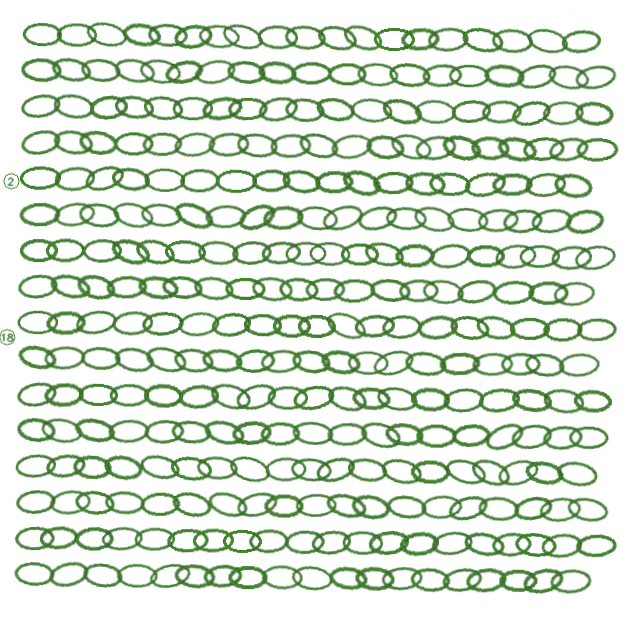chain: (483, 415, 530, 453), (233, 199, 279, 237), (169, 199, 215, 236), (323, 307, 369, 344), (470, 452, 516, 488), (318, 200, 365, 235), (497, 452, 544, 487), (336, 20, 382, 55), (234, 380, 280, 415), (315, 452, 361, 487), (80, 164, 125, 199), (376, 93, 422, 127), (371, 345, 417, 379), (359, 417, 405, 451), (229, 453, 275, 487), (445, 453, 491, 487), (448, 489, 494, 523), (216, 21, 261, 55), (506, 93, 551, 127), (337, 165, 382, 199), (107, 237, 152, 271), (208, 489, 253, 523), (386, 129, 432, 162), (410, 201, 456, 234), (144, 345, 190, 378), (237, 489, 283, 522), (511, 57, 556, 90), (294, 129, 339, 162), (109, 201, 154, 234), (354, 201, 399, 234), (209, 381, 254, 414), (326, 489, 371, 522), (524, 561, 569, 594), (460, 166, 506, 198), (437, 129, 481, 162), (50, 561, 94, 594), (521, 22, 566, 54), (544, 130, 589, 162), (132, 238, 177, 270), (47, 274, 92, 306), (203, 418, 248, 450), (381, 454, 426, 486), (172, 490, 217, 522), (151, 562, 196, 594), (159, 58, 203, 90), (16, 130, 60, 162), (74, 274, 118, 306), (326, 382, 370, 414), (80, 22, 125, 53), (456, 22, 501, 53), (189, 58, 234, 89), (570, 58, 615, 89), (572, 238, 617, 269), (454, 274, 499, 305), (74, 310, 119, 341), (292, 382, 337, 413), (311, 22, 355, 53), (46, 58, 90, 89), (109, 58, 153, 89), (253, 94, 297, 125), (361, 238, 405, 269), (474, 310, 518, 341), (16, 346, 60, 377), (74, 418, 118, 449), (511, 418, 555, 449), (140, 454, 184, 485), (514, 490, 558, 521), (170, 131, 215, 161), (411, 131, 456, 161), (41, 419, 86, 449), (311, 94, 354, 125), (562, 202, 605, 233), (543, 59, 587, 89), (16, 95, 60, 125), (197, 95, 241, 125), (327, 131, 371, 161), (51, 203, 95, 233), (427, 239, 471, 269), (16, 383, 60, 413), (376, 383, 420, 413), (557, 455, 601, 485), (568, 491, 612, 521), (465, 527, 509, 557), (444, 563, 488, 593), (433, 527, 478, 556), (168, 23, 211, 53), (493, 131, 536, 161), (278, 167, 321, 197), (550, 167, 593, 197), (113, 347, 156, 377), (104, 455, 147, 485), (525, 455, 568, 485), (352, 491, 395, 521), (135, 59, 179, 88), (528, 203, 572, 232), (493, 239, 537, 268), (177, 311, 221, 340), (448, 311, 492, 340), (478, 383, 522, 412), (543, 383, 587, 412), (46, 455, 90, 484), (49, 95, 92, 124), (49, 131, 92, 160), (522, 167, 565, 196), (210, 311, 253, 340), (416, 311, 459, 340), (511, 383, 554, 412), (348, 455, 391, 484), (51, 491, 94, 520), (370, 527, 413, 556), (468, 563, 511, 592), (233, 132, 277, 160), (294, 204, 338, 232), (475, 204, 519, 232), (421, 276, 465, 304), (552, 276, 596, 304), (260, 348, 304, 376), (404, 348, 448, 376), (171, 456, 215, 484), (541, 492, 585, 520), (543, 528, 587, 556), (117, 23, 159, 52), (75, 131, 117, 160), (320, 347, 362, 376), (556, 24, 599, 52), (110, 96, 153, 124), (139, 96, 182, 124), (51, 168, 94, 196), (76, 204, 119, 232), (260, 204, 303, 232), (549, 240, 592, 268), (16, 276, 59, 304), (136, 276, 179, 304), (173, 348, 216, 376), (201, 348, 244, 376), (178, 384, 221, 412), (443, 384, 486, 412), (543, 420, 586, 448), (16, 456, 59, 484), (388, 492, 431, 520), (313, 528, 356, 556), (294, 564, 337, 592), (384, 60, 428, 87), (347, 96, 391, 123), (519, 132, 563, 159), (138, 204, 182, 231), (250, 276, 294, 303), (491, 276, 535, 303), (85, 96, 127, 124), (362, 132, 404, 160), (108, 168, 150, 196), (500, 204, 542, 232), (192, 276, 234, 304), (291, 348, 333, 376), (524, 348, 566, 376), (401, 528, 443, 556), (85, 564, 127, 592), (331, 564, 373, 592), (280, 24, 323, 51), (479, 60, 522, 87), (447, 96, 490, 123), (205, 132, 248, 159), (445, 204, 488, 231), (259, 240, 302, 267), (160, 276, 203, 303), (368, 276, 411, 303), (111, 312, 154, 339), (141, 312, 184, 339), (353, 312, 396, 339), (558, 348, 601, 375), (293, 420, 336, 447), (76, 492, 119, 519), (517, 528, 560, 555), (384, 564, 427, 591), (553, 564, 596, 591), (423, 24, 465, 51), (76, 60, 118, 87), (222, 60, 264, 87), (253, 60, 295, 87), (478, 96, 520, 123), (539, 96, 581, 123), (230, 240, 272, 267), (44, 348, 86, 375), (235, 348, 277, 375), (17, 420, 59, 447), (232, 420, 274, 447), (385, 420, 427, 447), (452, 420, 494, 447), (17, 492, 59, 519), (423, 492, 465, 519), (41, 528, 83, 555), (104, 528, 146, 555), (177, 564, 219, 591), (487, 25, 530, 51), (411, 97, 454, 123), (426, 169, 469, 195), (332, 277, 375, 303), (169, 529, 212, 555), (571, 96, 612, 123), (381, 312, 422, 339), (145, 420, 186, 447), (494, 528, 535, 555), (206, 564, 247, 591), (194, 25, 236, 51), (353, 61, 395, 87), (224, 97, 266, 123), (139, 133, 181, 159), (267, 133, 309, 159), (370, 169, 412, 195), (402, 169, 444, 195), (489, 169, 531, 195), (17, 205, 59, 231), (203, 205, 245, 231), (196, 241, 238, 267), (105, 277, 147, 303), (542, 313, 584, 339), (576, 313, 618, 339), (439, 349, 481, 375), (472, 349, 514, 375), (109, 421, 151, 447), (172, 421, 214, 447), (261, 421, 303, 447), (328, 421, 370, 447), (292, 457, 334, 483), (142, 493, 184, 519), (480, 493, 522, 519), (287, 529, 329, 555), (578, 529, 620, 555), (413, 565, 455, 591), (573, 133, 616, 158), (396, 25, 437, 51), (418, 61, 459, 87), (281, 97, 322, 123), (177, 169, 218, 195), (312, 169, 353, 195), (393, 241, 434, 267), (45, 313, 86, 339), (44, 385, 85, 411), (352, 385, 393, 411), (74, 457, 115, 483), (17, 529, 58, 555), (143, 25, 185, 50), (17, 169, 59, 194), (384, 205, 426, 230), (163, 241, 205, 266), (284, 241, 326, 266), (308, 241, 350, 266), (304, 277, 346, 302), (198, 457, 240, 482), (267, 457, 309, 482), (195, 529, 237, 554), (251, 529, 293, 554), (253, 25, 294, 50), (17, 61, 58, 86), (287, 61, 328, 86), (249, 169, 290, 194), (44, 241, 85, 266), (518, 241, 559, 266), (278, 277, 319, 302), (398, 277, 439, 302), (527, 277, 568, 302), (298, 493, 339, 518), (77, 529, 118, 554), (137, 529, 178, 554), (17, 565, 58, 590), (265, 565, 306, 590), (369, 26, 411, 50), (213, 170, 255, 194), (468, 133, 508, 158), (81, 241, 121, 266), (81, 349, 121, 374), (501, 349, 541, 374), (144, 385, 184, 410), (411, 385, 451, 410), (574, 385, 614, 410), (107, 493, 147, 518), (358, 565, 398, 590), (52, 26, 93, 50), (445, 62, 486, 86), (169, 98, 210, 122), (111, 134, 152, 158), (142, 170, 183, 194), (224, 278, 265, 302), (17, 314, 58, 338), (509, 314, 550, 338), (348, 350, 389, 374), (79, 386, 120, 410), (110, 386, 151, 410), (268, 386, 309, 410), (417, 422, 458, 446), (225, 530, 266, 554), (345, 530, 386, 554), (120, 566, 161, 590), (18, 26, 58, 50), (324, 62, 364, 86), (18, 242, 58, 266), (339, 242, 379, 266), (465, 242, 505, 266), (243, 314, 283, 338), (272, 314, 312, 338), (297, 314, 337, 338), (570, 422, 610, 446), (412, 458, 452, 482), (266, 494, 306, 518), (231, 566, 271, 590), (502, 566, 542, 590)
noise: (0, 175, 19, 195), (0, 331, 17, 351)
